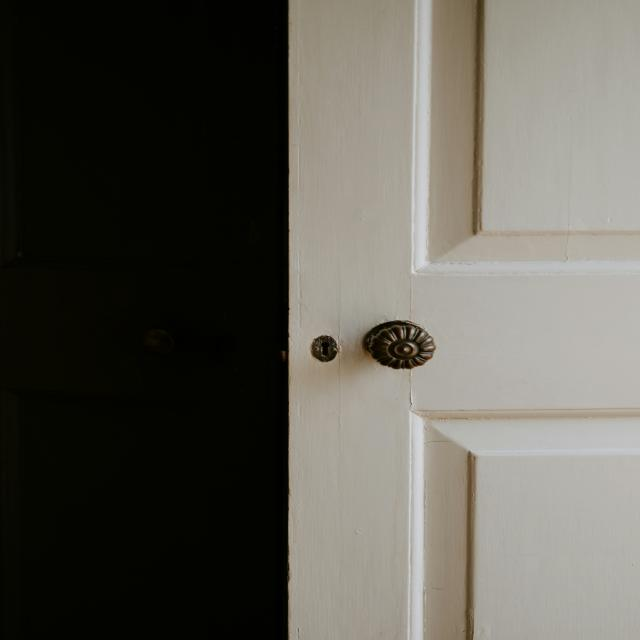door-knob: (364, 321, 435, 369)
